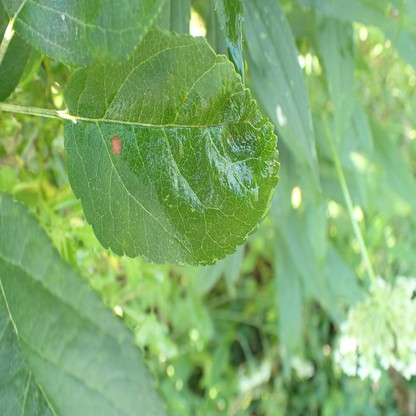frogeye_leaf_spot: (111, 135, 121, 154)
